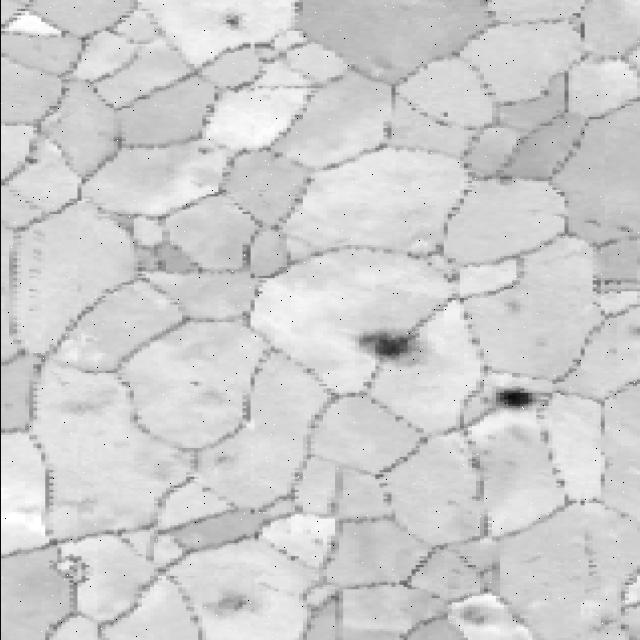good_void: (186, 566, 276, 628), (358, 324, 434, 372), (53, 550, 107, 589), (489, 379, 545, 415), (207, 8, 265, 41), (451, 598, 502, 631), (492, 288, 532, 319), (194, 445, 242, 469), (12, 150, 47, 175), (188, 144, 222, 163), (432, 106, 455, 124)
